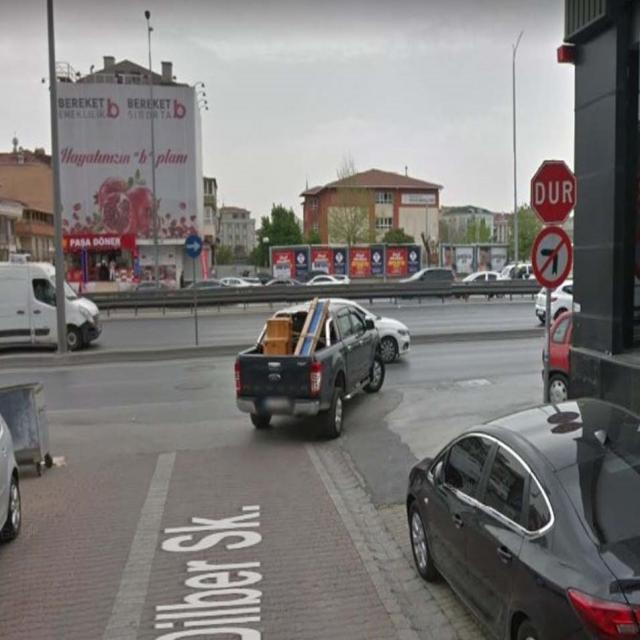dur: (530, 162, 576, 224)
sag: (185, 236, 201, 257)
soladonulmez: (533, 228, 572, 290)
